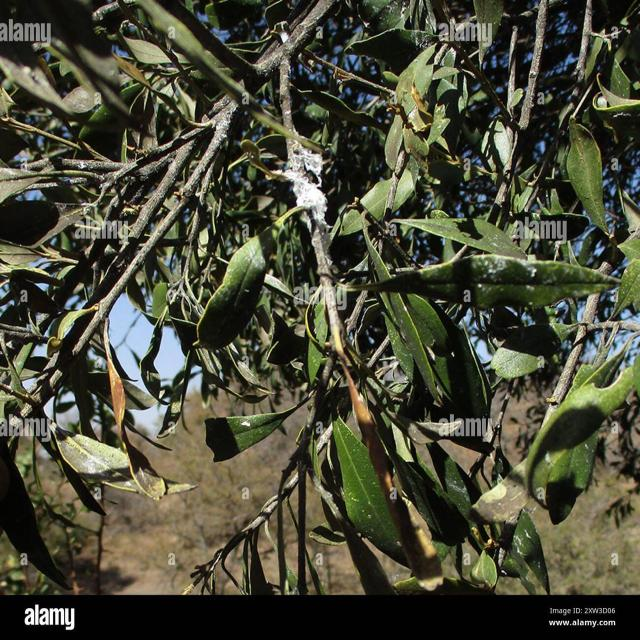Psyllid: (394, 255, 619, 307), (264, 138, 331, 266), (56, 426, 137, 491), (232, 416, 261, 445)
